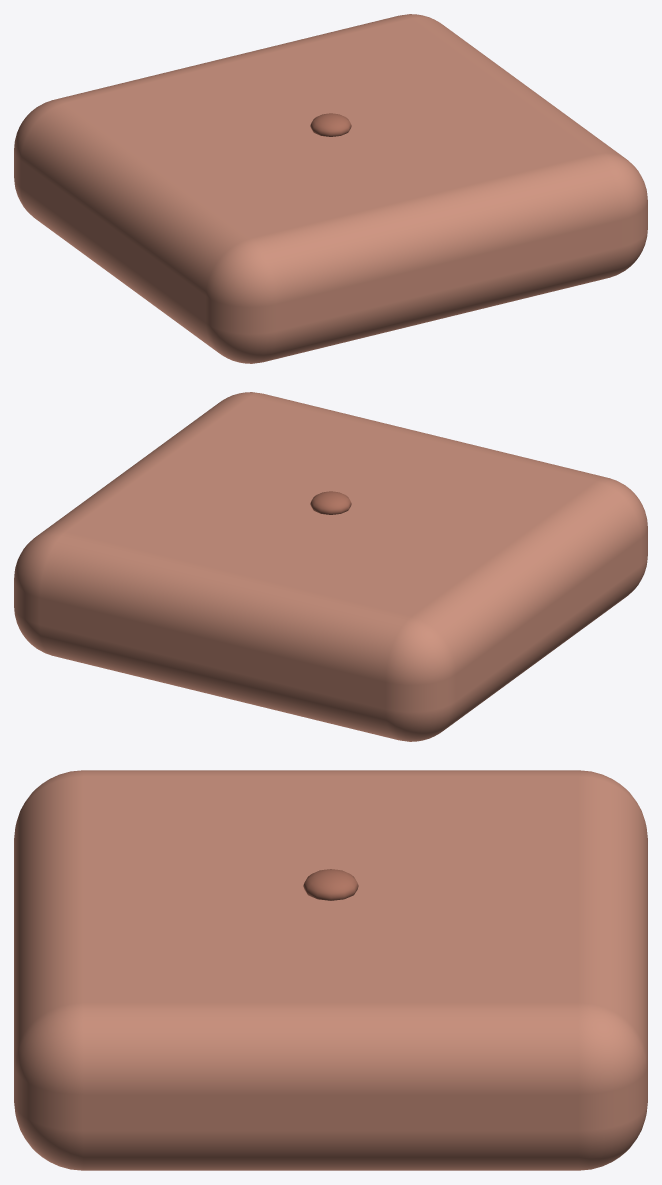
The model's file is cushion.glb.
3 renders of one model, top to bottom at view 1: azimuth 30°, elevation 25°; view 2: azimuth 150°, elevation 25°; view 3: azimuth 270°, elevation 25°, orthographic. The views are drawn at different scales.
Visible parts, largest first — view 1: prop-cushion; view 2: prop-cushion; view 3: prop-cushion.
Part boxes in pixels (x1=…): prop-cushion: x1=14, y1=14, x2=647, y2=363; prop-cushion: x1=14, y1=392, x2=647, y2=741; prop-cushion: x1=14, y1=770, x2=647, y2=1170.
Size of the model in its own units: 0.34 by 0.099 by 0.32.
